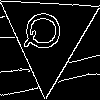Q: (23, 10, 69, 52)
